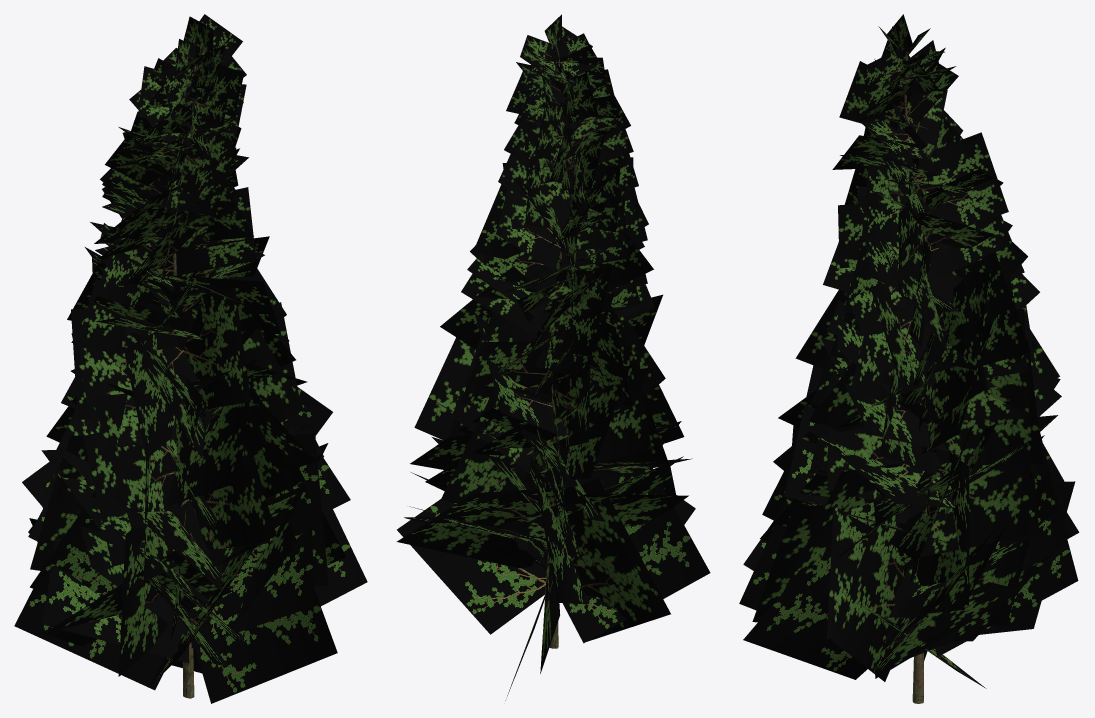
3 views of the same model, side by side, from view 1: azimuth 30°, elevation 25°; view 2: azimuth 150°, elevation 25°; view 3: azimuth 270°, elevation 25° (orthographic). The views are drawn at different scales.
Visible parts, largest first — view 1: b; view 2: b; view 3: b.
Part boxes in pixels (x1,y1,x2,y2): b: (14, 14, 367, 703); b: (396, 14, 710, 700); b: (739, 14, 1079, 703).
Size of the model in its own units: 3.42 by 7.1 by 3.19.
Materials: 2 (2 with a texture image).
